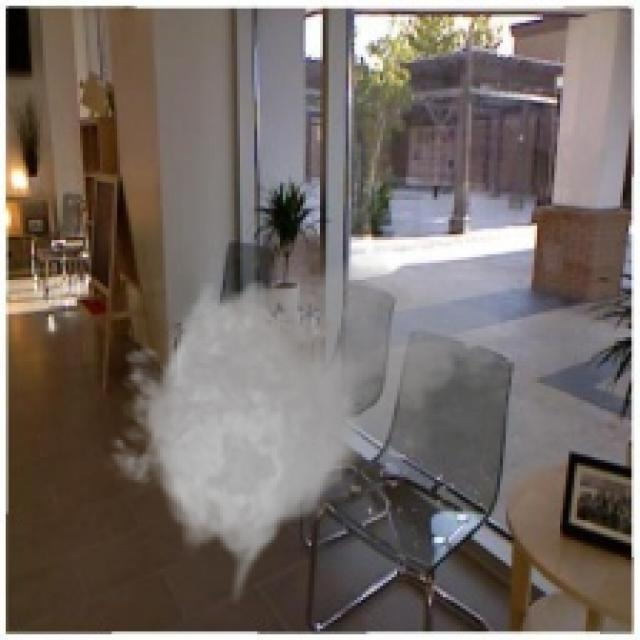Smoke: (97, 242, 509, 608)
